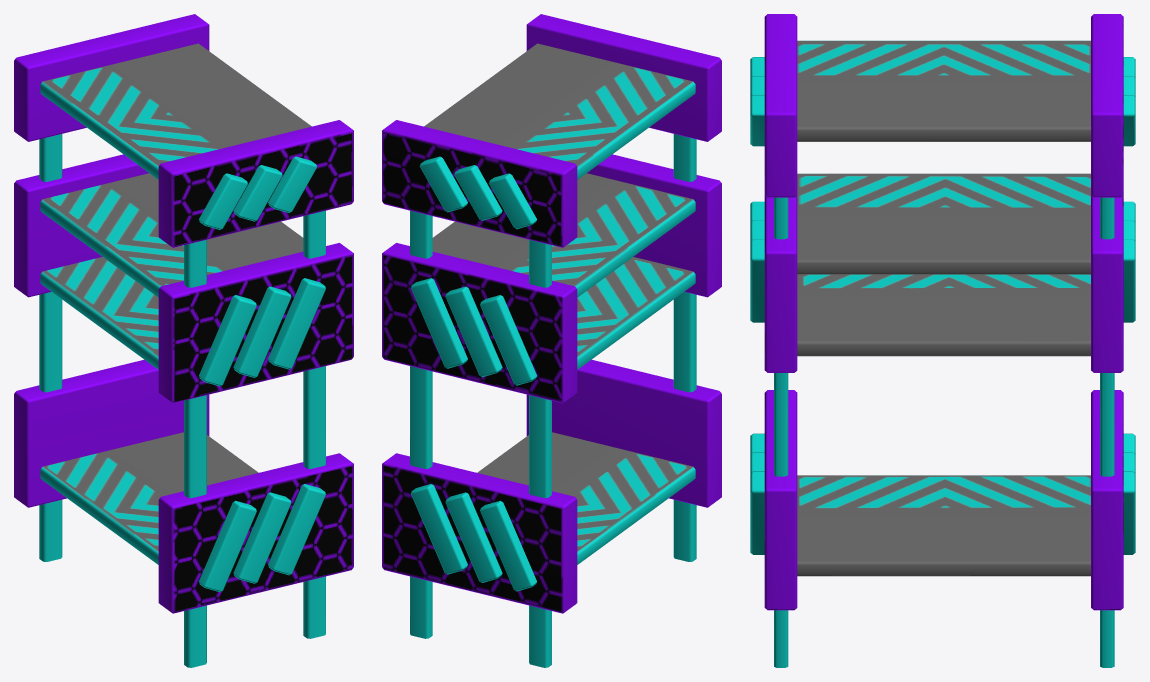
File: SM_Shelf_01.fbx
3 renders of one model, left to right at view 1: azimuth 30°, elevation 25°; view 2: azimuth 150°, elevation 25°; view 3: azimuth 270°, elevation 25°, orthographic. The views are drawn at different scales.
Parts seen in each view (by area): view 1: SM_Shelf_01; view 2: SM_Shelf_01; view 3: SM_Shelf_01.
Part boxes in pixels (<box>): SM_Shelf_01: <box>14,14,353,667</box>; SM_Shelf_01: <box>382,14,721,667</box>; SM_Shelf_01: <box>750,14,1135,667</box>.
Size of the model in its own units: 60.42 by 97.62 by 159.
Materials: 1 (1 with a texture image).
